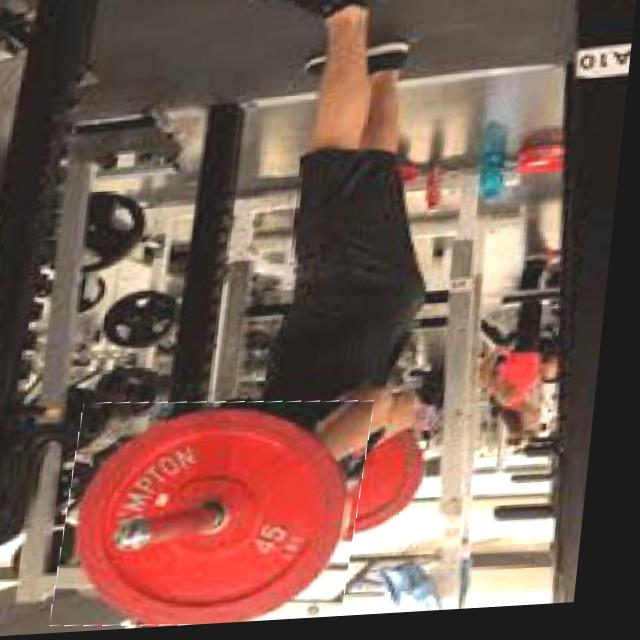barbell: (67, 397, 382, 636)
